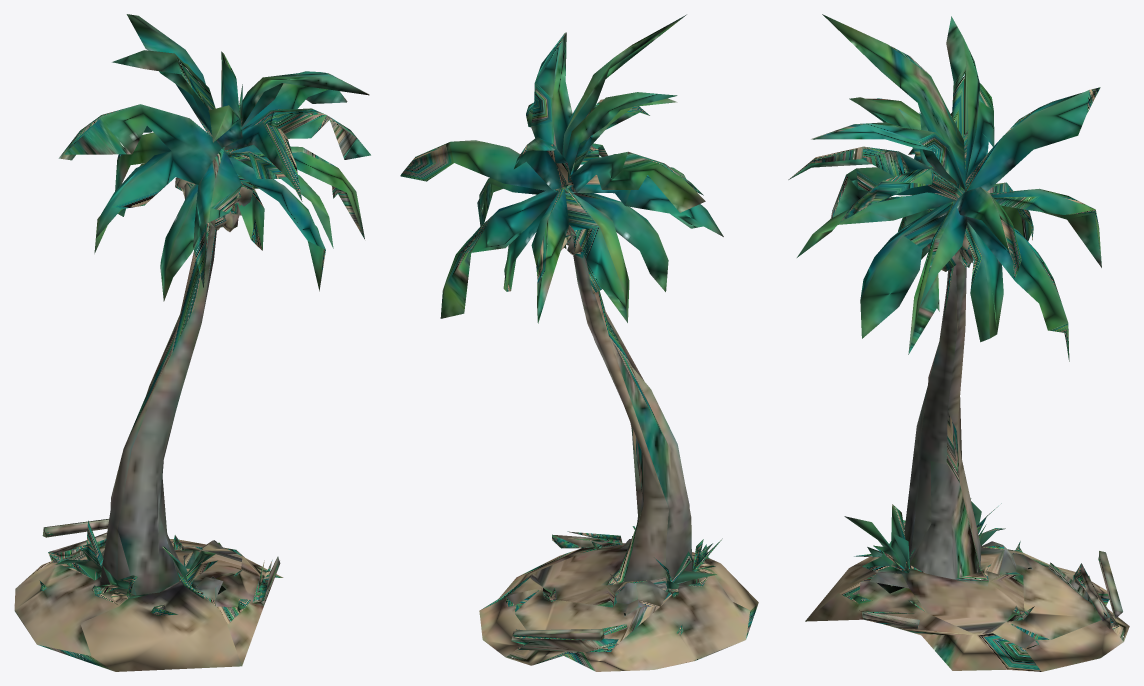
File: sw-palm-a-lite.glb
The picture shows the model from 3 angles, left to right: view 1: azimuth 30°, elevation 25°; view 2: azimuth 150°, elevation 25°; view 3: azimuth 270°, elevation 25°; orthographic projection. The views are drawn at different scales.
Parts seen in each view (by area): view 1: geometry_0; view 2: geometry_0; view 3: geometry_0.
Part boxes in pixels (left/top/right/bottom): geometry_0: left=14, top=14, right=370, bottom=671; geometry_0: left=400, top=14, right=758, bottom=671; geometry_0: left=788, top=14, right=1129, bottom=671.
Size of the model in its own units: 0.5384 by 0.8984 by 0.4603.
1 material, 1 textured.
